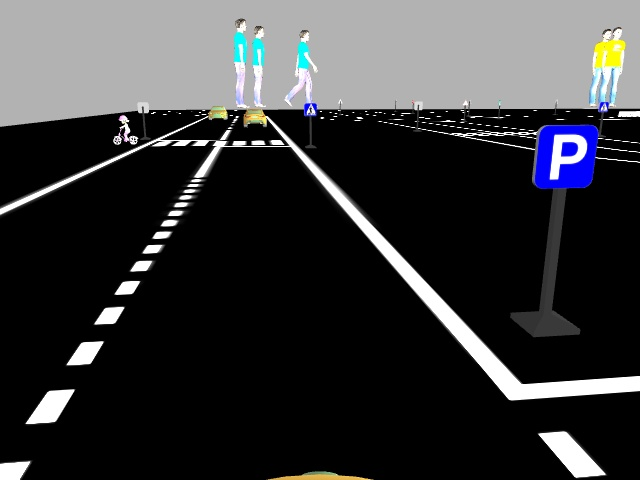Parking: (534, 123, 597, 190)
